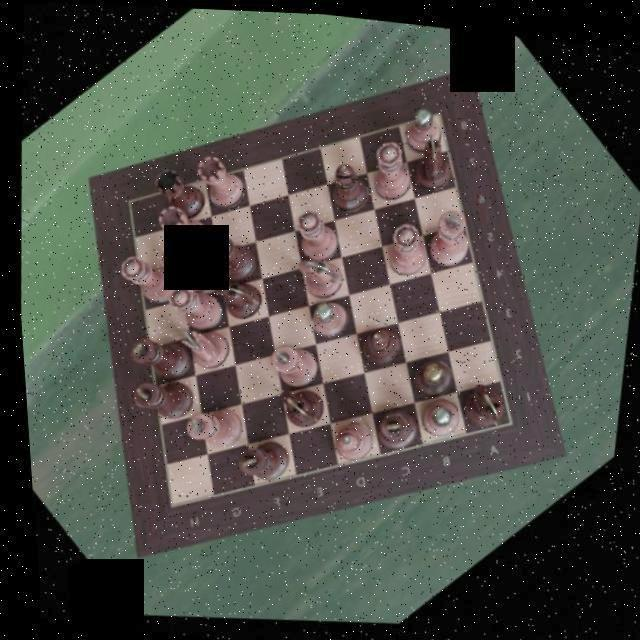chess-table-corners: (483, 392, 546, 453), (149, 470, 212, 530), (105, 175, 162, 229), (422, 96, 462, 134)
